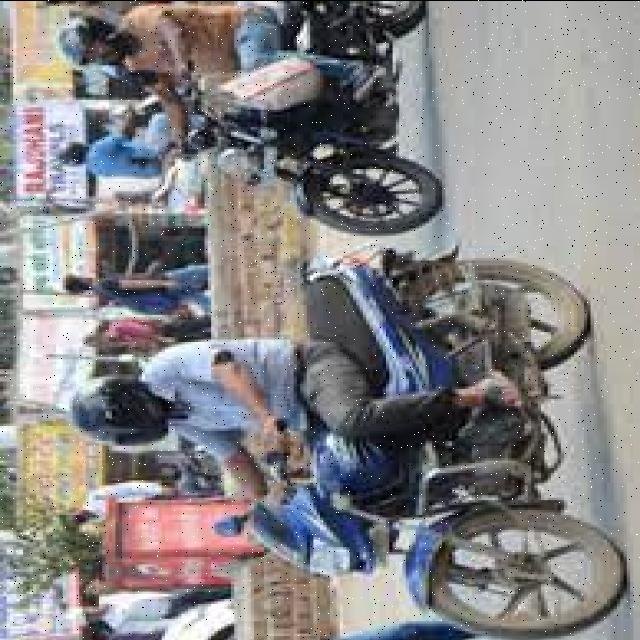Helmet: (69, 373, 173, 446), (56, 12, 128, 72), (51, 136, 91, 168), (58, 266, 96, 292)
